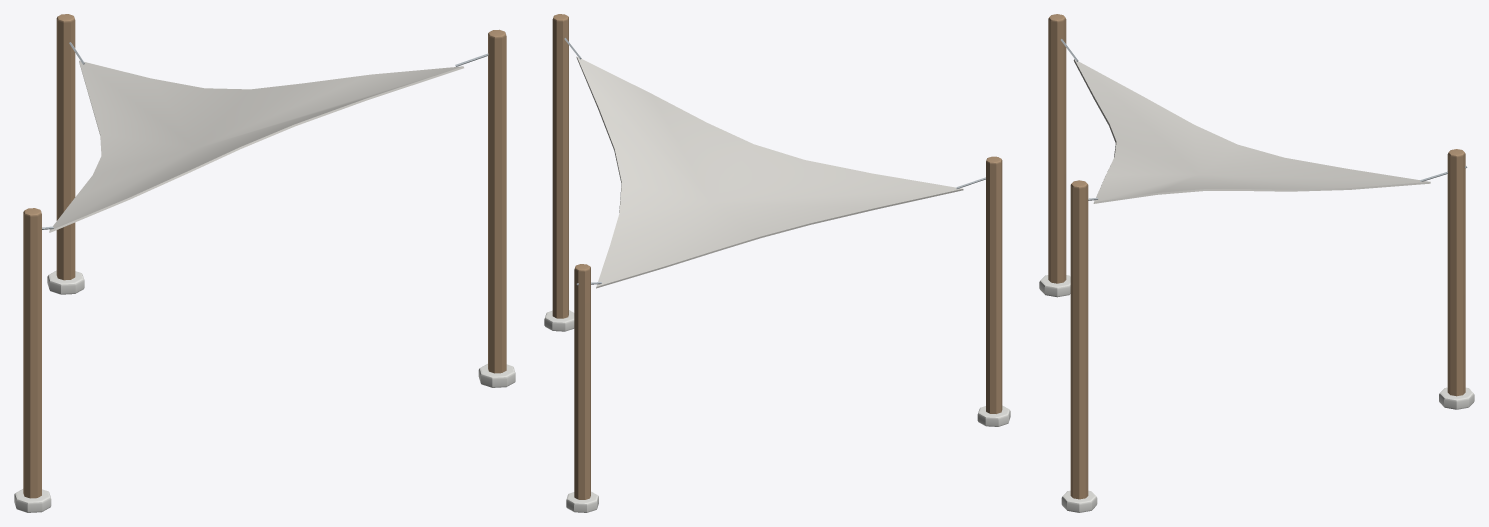
The model's file is ShadeSail.fbx.
3 views of the same model, side by side, from view 1: azimuth 30°, elevation 25°; view 2: azimuth 150°, elevation 25°; view 3: azimuth 270°, elevation 25° (orthographic). The views are drawn at different scales.
Parts seen in each view (by area): view 1: ShadeSail; view 2: ShadeSail; view 3: ShadeSail.
Part boxes in pixels (box(x1,y1,x2,y2)): ShadeSail: box(14, 14, 515, 512); ShadeSail: box(544, 14, 1010, 512); ShadeSail: box(1039, 14, 1474, 512).
Bounding box in the file's own units: 5.51 × 3.6 × 4.39.
